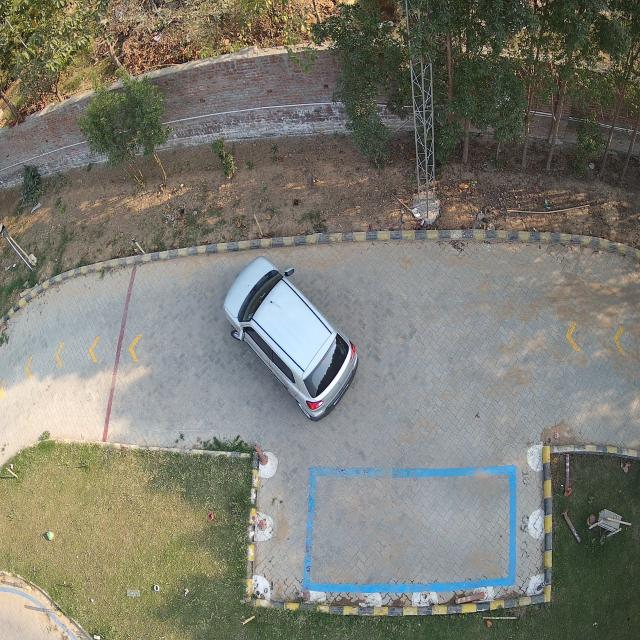car: (223, 257, 357, 422)
